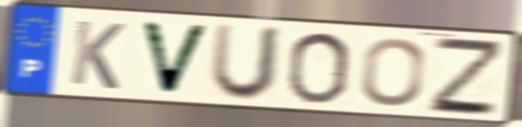K: (67, 17, 127, 93)
O: (284, 30, 354, 106), (358, 36, 428, 109)
U: (207, 21, 286, 104)
V: (137, 18, 213, 98)
Z: (427, 34, 503, 118)
